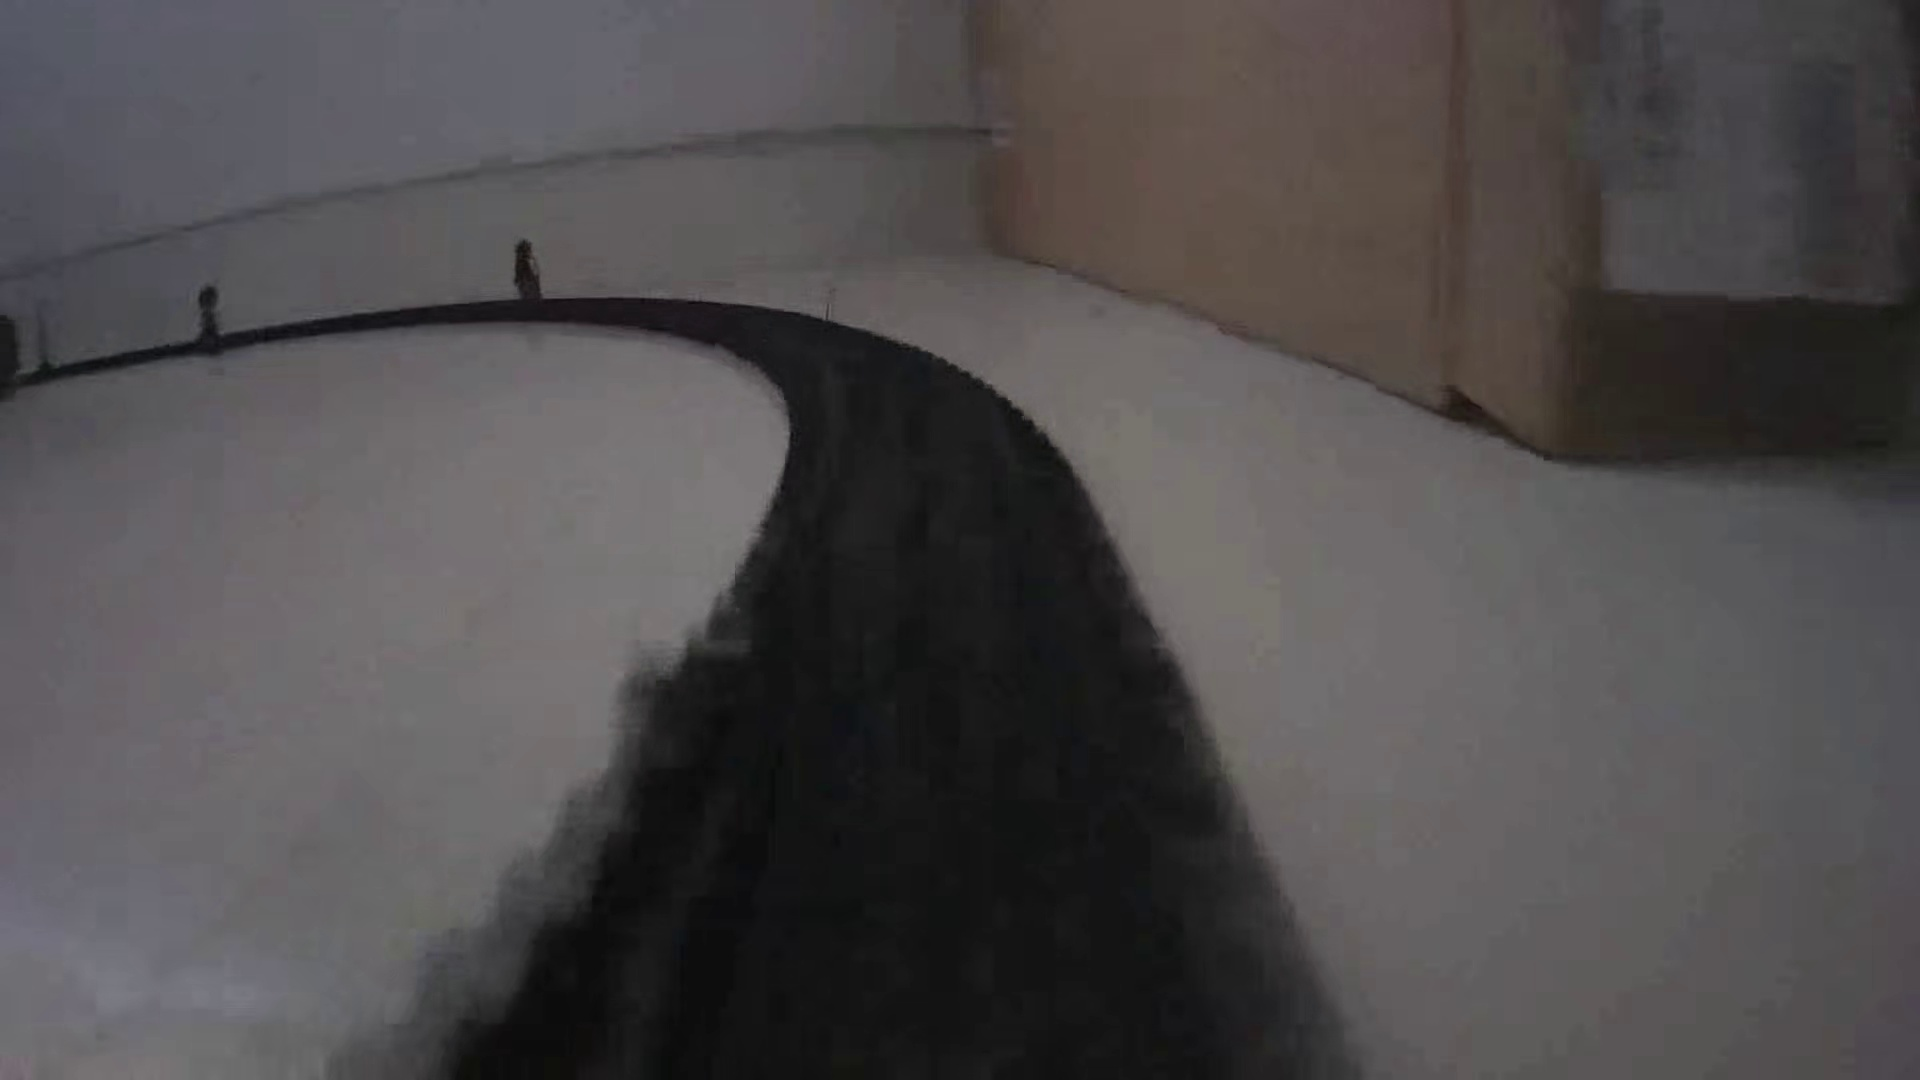people: (507, 237, 544, 305), (190, 284, 227, 351)
